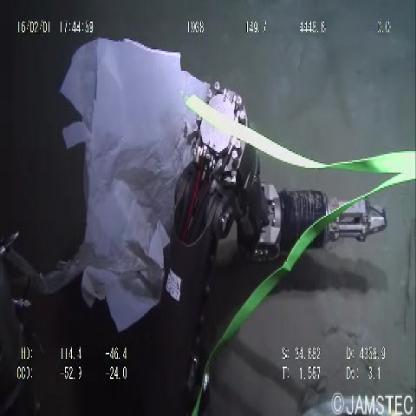Rov: (158, 78, 392, 372)
Rác: (56, 30, 211, 338)
